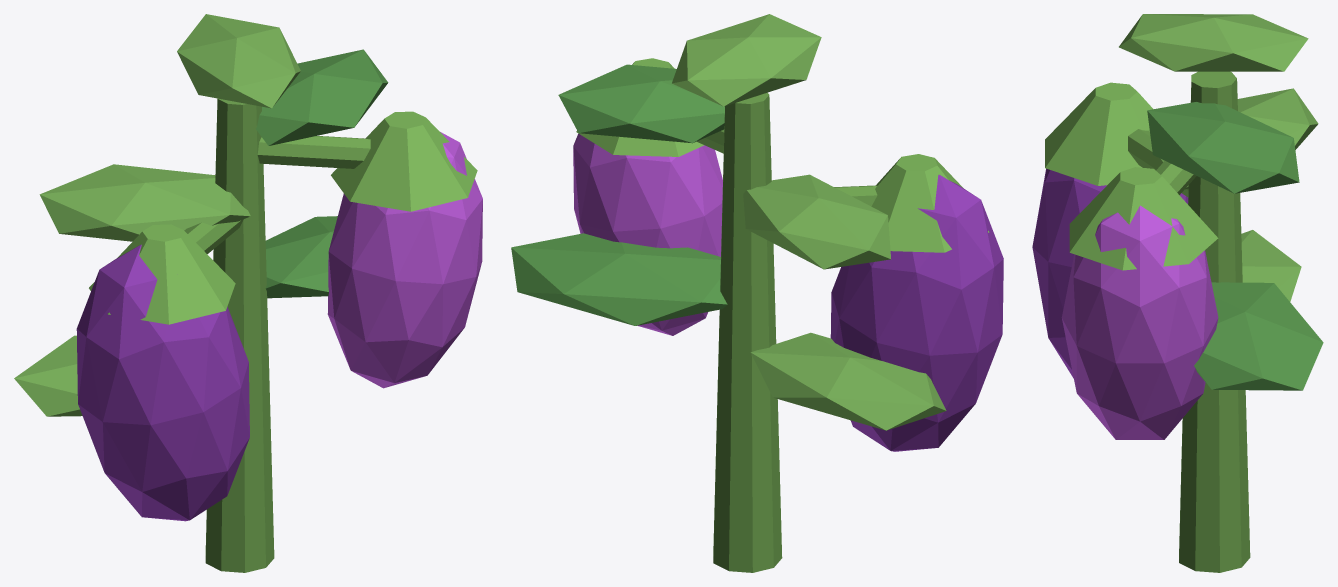
Rendered from Eggplant.glb.
3 renders of one model, left to right at view 1: azimuth 30°, elevation 25°; view 2: azimuth 150°, elevation 25°; view 3: azimuth 270°, elevation 25°, orthographic. The views are drawn at different scales.
Visible parts, largest first — view 1: FTF_Plant_Eggplant_Mature_Mesh; view 2: FTF_Plant_Eggplant_Mature_Mesh; view 3: FTF_Plant_Eggplant_Mature_Mesh.
Boxes of the visible parts, x1=… form: FTF_Plant_Eggplant_Mature_Mesh: x1=14, y1=14, x2=482, y2=572; FTF_Plant_Eggplant_Mature_Mesh: x1=511, y1=14, x2=1003, y2=572; FTF_Plant_Eggplant_Mature_Mesh: x1=1032, y1=14, x2=1323, y2=572.
Size of the model in its own units: 1.02 by 1.21 by 0.5947.
